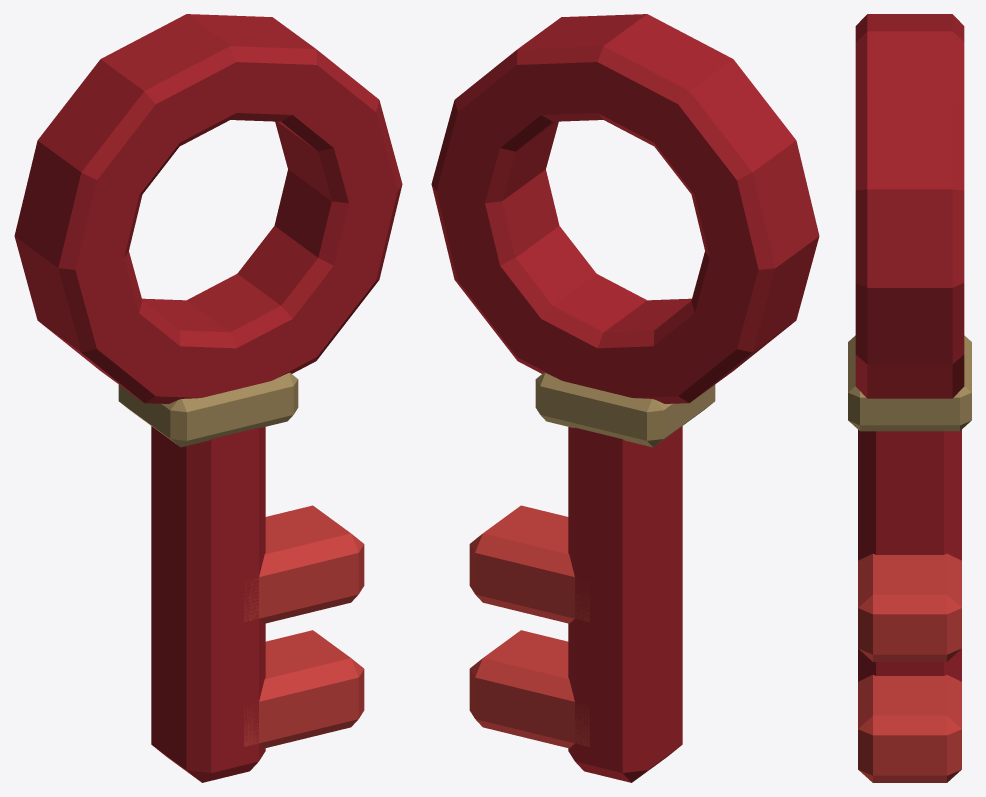
The model's file is scarlet_key.glb.
3 views of the same model, side by side, from view 1: azimuth 30°, elevation 25°; view 2: azimuth 150°, elevation 25°; view 3: azimuth 270°, elevation 25° (orthographic). The views are drawn at different scales.
Parts seen in each view (by area): view 1: ScarletKey_Mesh; view 2: ScarletKey_Mesh; view 3: ScarletKey_Mesh.
Boxes of the visible parts, bbox=[...] form: ScarletKey_Mesh: bbox=[14, 14, 402, 782]; ScarletKey_Mesh: bbox=[431, 14, 819, 782]; ScarletKey_Mesh: bbox=[848, 14, 971, 782].
Size of the model in its own units: 0.39 by 0.795 by 0.125.
